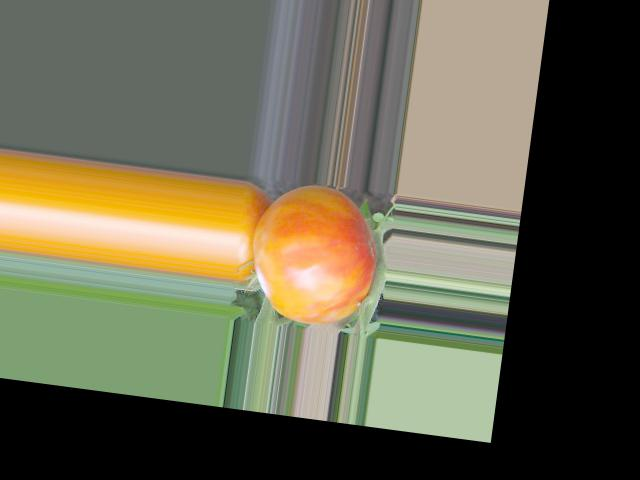tomato: (244, 178, 384, 331)
